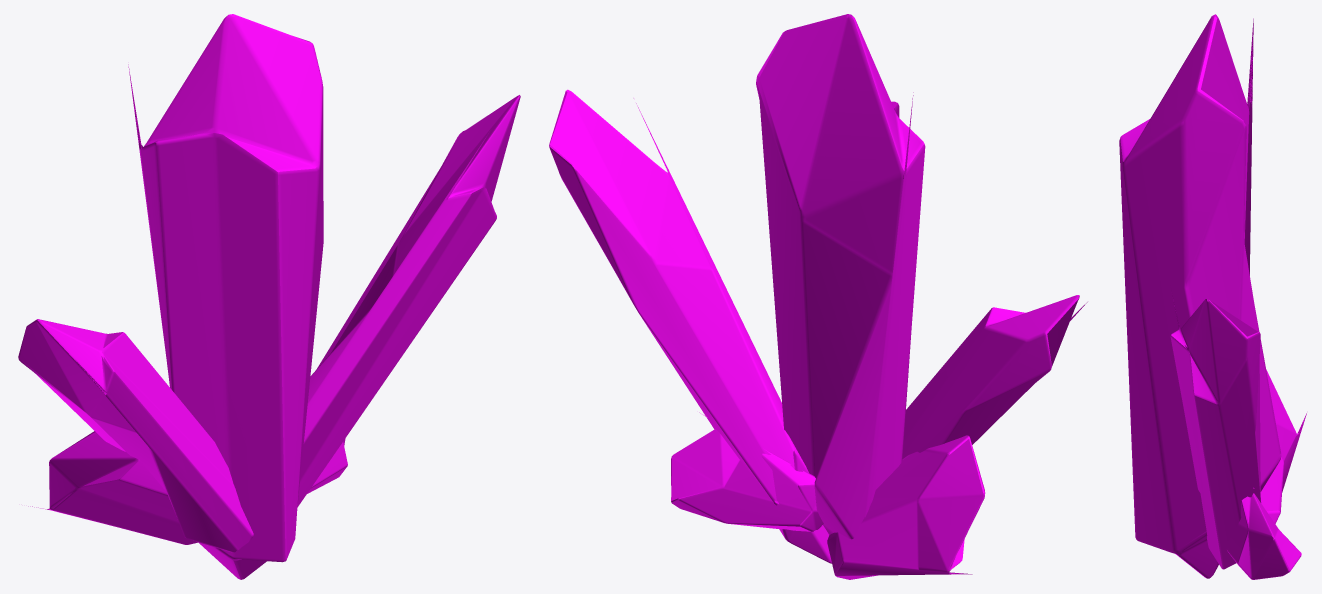
Rendered from Crystal.fbx.
3 views of the same model, side by side, from view 1: azimuth 30°, elevation 25°; view 2: azimuth 150°, elevation 25°; view 3: azimuth 270°, elevation 25° (orthographic).
Parts seen in each view (by area): view 1: pCube6; view 2: pCube6; view 3: pCube6.
Boxes of the visible parts, box(x1,y1,x2,y2) form: pCube6: box(18, 14, 520, 579); pCube6: box(549, 14, 1087, 579); pCube6: box(1119, 14, 1306, 579).
Size of the model in its own units: 10.23 by 11.08 by 3.38.
